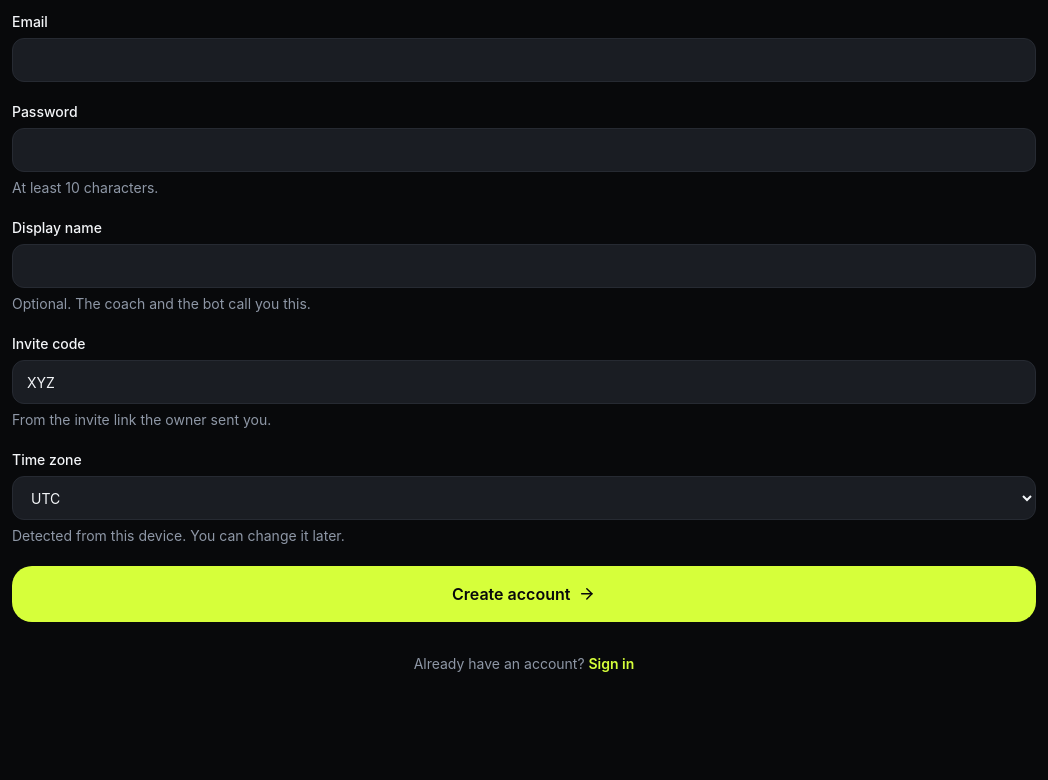
Test: register page modes (P8.13) › invite mode asks for the code, prefilled from an invite link, and posts it with the browser's zone
The width and height of the screenshot is (1048, 780).
Check: the field labelled "Invite code" holds "XYZ", box [12,360,1036,404]
Step 1. Type "runner@example.com" into the field labelled "Email" → (524, 60), box [12,38,1036,82]
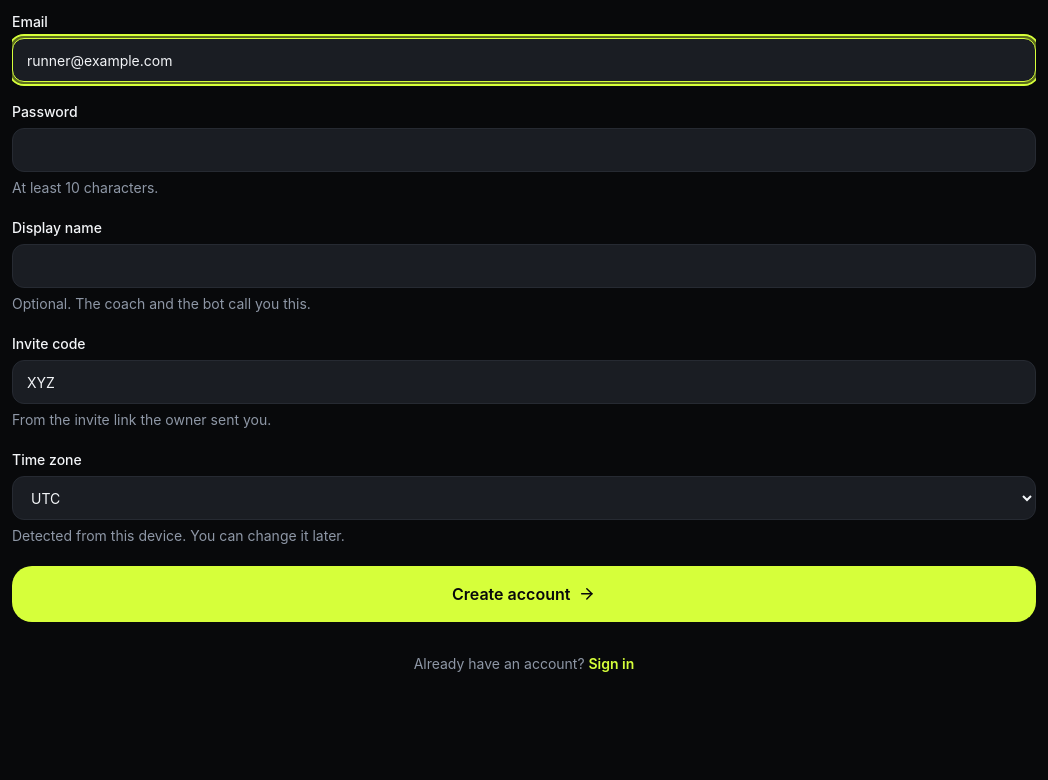
Step 2. Type "correct horse battery" into the password field labelled "Password" → (524, 150), box [12,128,1036,172]
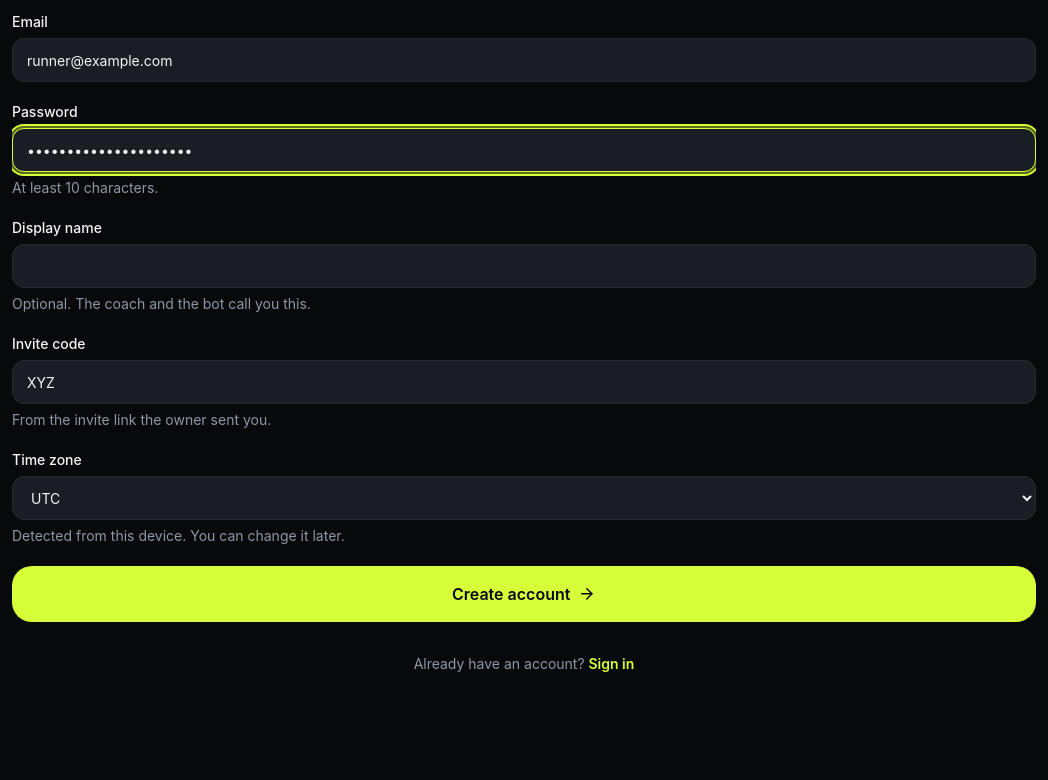
Step 3. Click the button "Create account" → click(524, 594), box [12,566,1036,622]
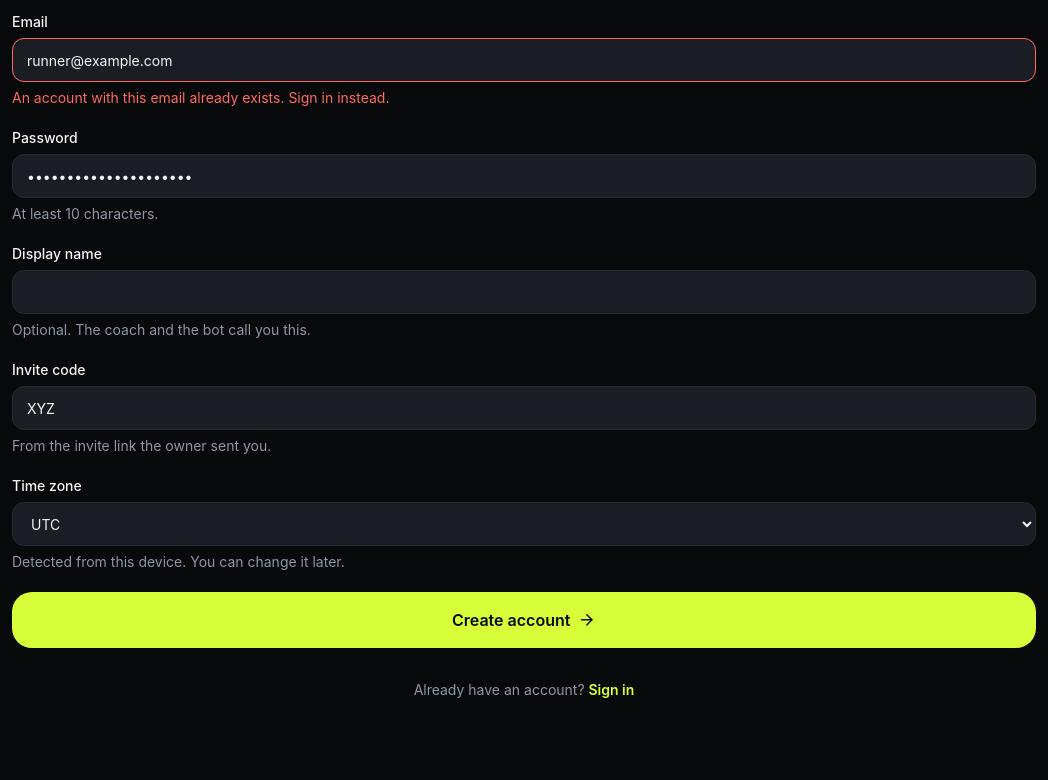
Check: the text "An account with this email already exists. Sign in instead." is shown, box [12,89,389,106]
